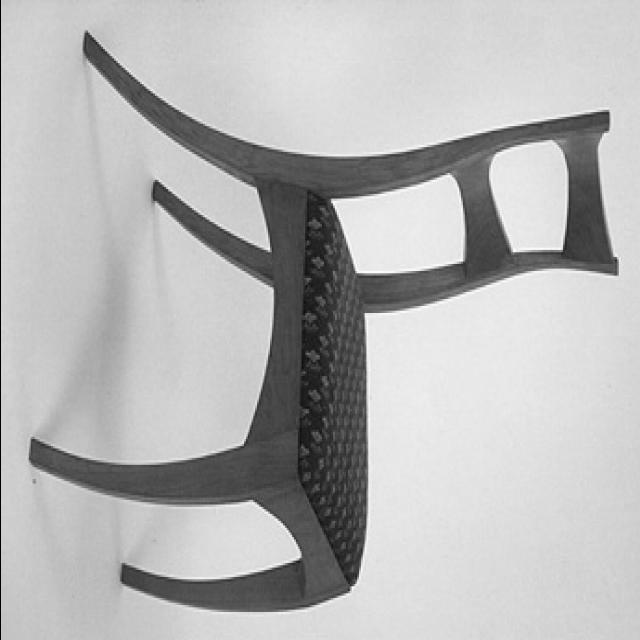chair: (28, 25, 622, 615)
